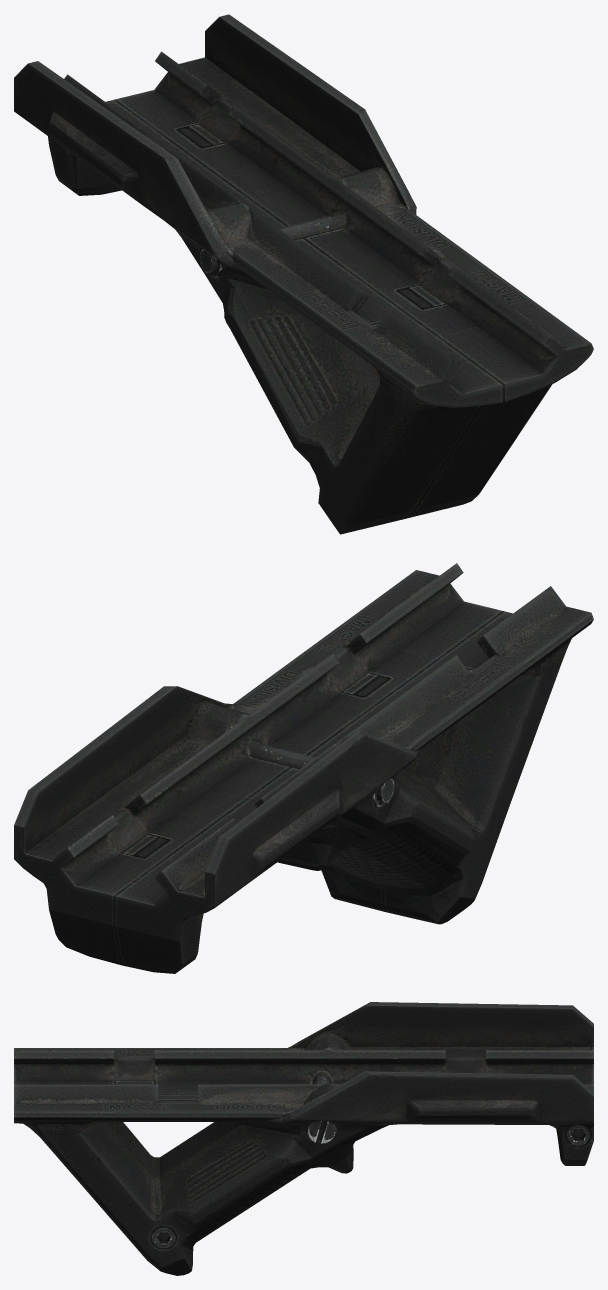
3 renders of one model, top to bottom at view 1: azimuth 30°, elevation 25°; view 2: azimuth 150°, elevation 25°; view 3: azimuth 270°, elevation 25°, orthographic. The views are drawn at different scales.
Visible parts, largest first — view 1: TW_588226d124597767ad33f787_PZ_Import; view 2: TW_588226d124597767ad33f787_PZ_Import; view 3: TW_588226d124597767ad33f787_PZ_Import.
Part boxes in pixels (x1,y1,x2,y2): TW_588226d124597767ad33f787_PZ_Import: [14, 14, 593, 534]; TW_588226d124597767ad33f787_PZ_Import: [14, 563, 593, 973]; TW_588226d124597767ad33f787_PZ_Import: [14, 1002, 593, 1275].
Bounding box in the file's own units: 0.0257 × 0.0797 × 0.0331.
Materials: 1 (1 with a texture image).
